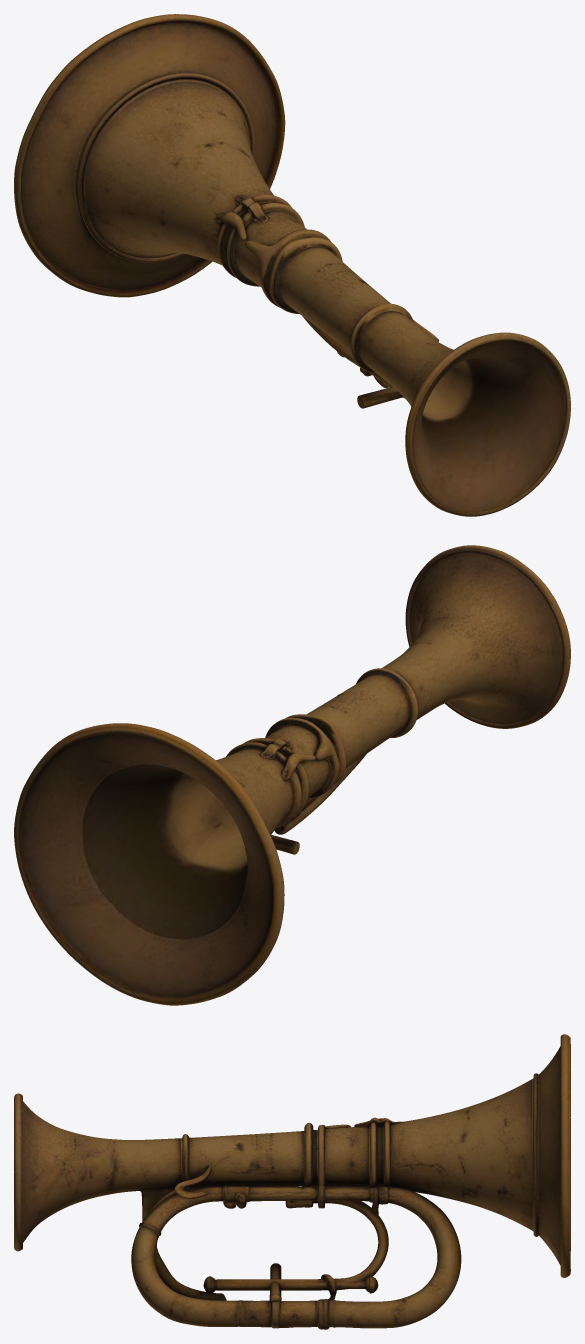
File: xiangjiang-bugle.glb
3 renders of one model, top to bottom at view 1: azimuth 30°, elevation 25°; view 2: azimuth 150°, elevation 25°; view 3: azimuth 270°, elevation 25°, orthographic. The views are drawn at different scales.
Visible parts, largest first — view 1: tripo_node_da15e85f-6c52-47f0-b26f-f3fef01b265d; view 2: tripo_node_da15e85f-6c52-47f0-b26f-f3fef01b265d; view 3: tripo_node_da15e85f-6c52-47f0-b26f-f3fef01b265d.
Boxes of the visible parts, <box> form: tripo_node_da15e85f-6c52-47f0-b26f-f3fef01b265d: <box>14,14,570,516</box>; tripo_node_da15e85f-6c52-47f0-b26f-f3fef01b265d: <box>14,545,570,1005</box>; tripo_node_da15e85f-6c52-47f0-b26f-f3fef01b265d: <box>14,1034,570,1329</box>.
Bounding box in the file's own units: 0.4418 × 0.4631 × 0.9817.
Materials: 1 (1 with a texture image).
